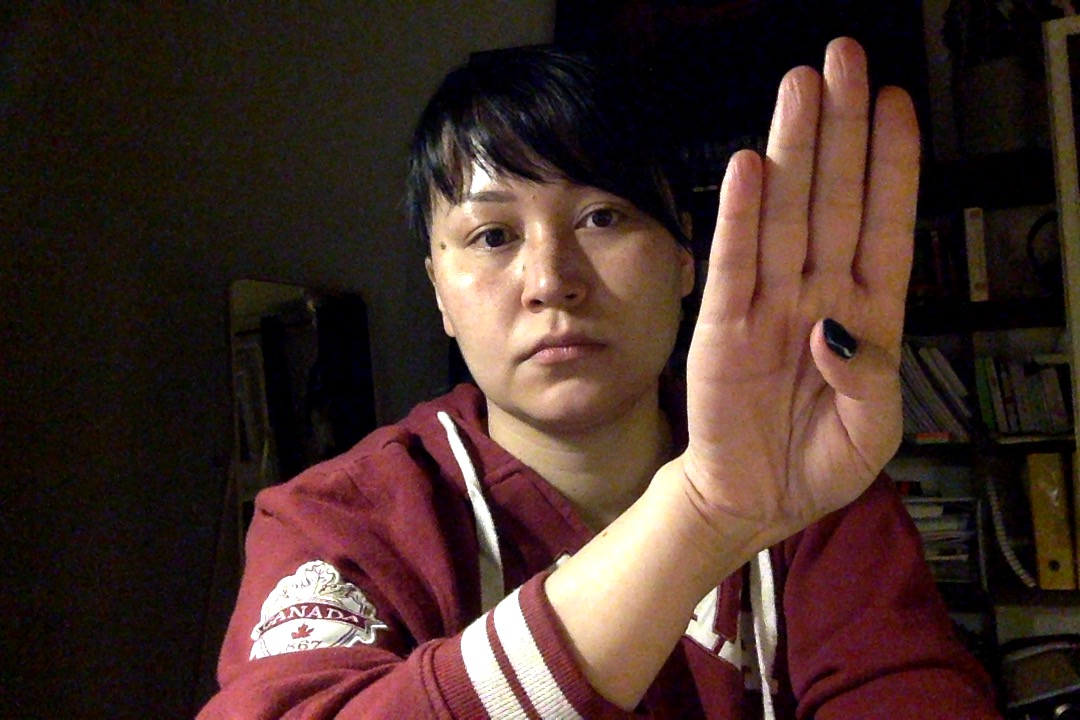b: (668, 27, 944, 560)
